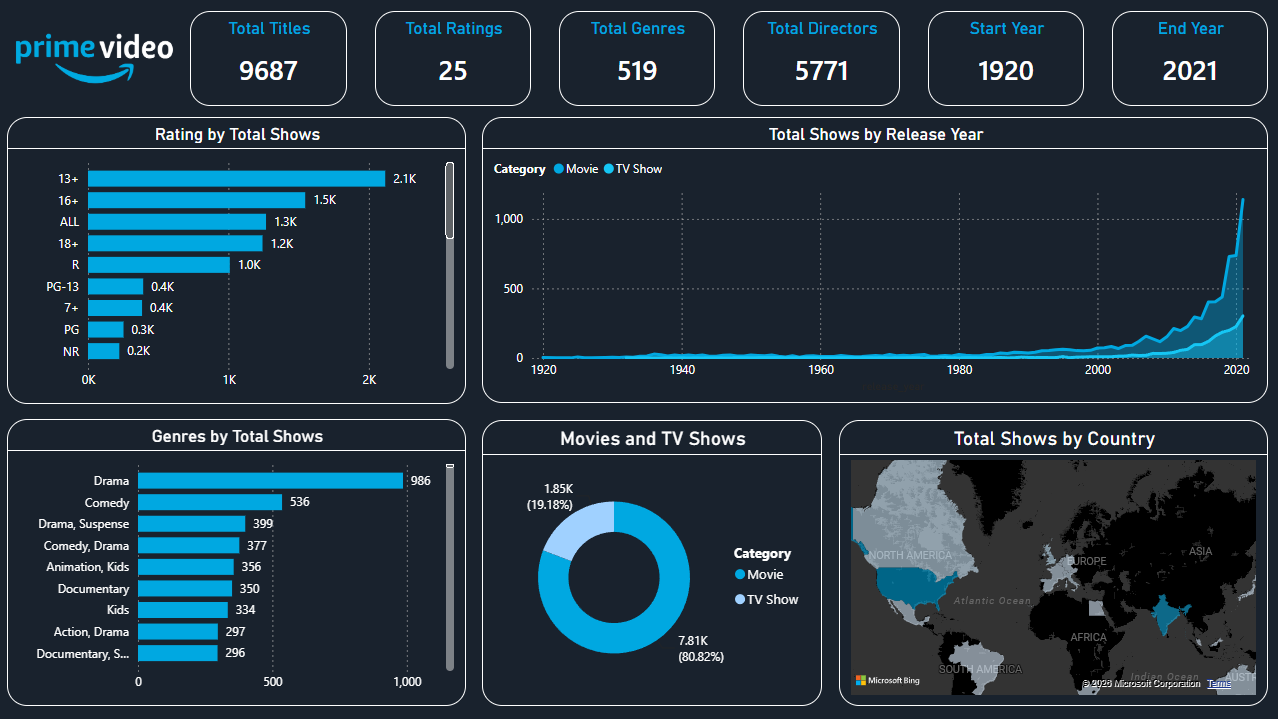

What the dashboard file says about the page in this screenshot:
{"tool":"powerbi","page":{"name":"Page 1","canvas":[1280,720],"ordinal":0},"visuals":[{"type":"filledMap","title":"Total Shows by Country","fields":{"Category":["amazon_prime_titles.country"]},"box":[560.1,117.5,709.3,292.4],"z":0},{"type":"donutChart","title":"Movies and TV Shows","fields":{"Category":["amazon_prime_titles.type"],"Y":["Count(amazon_prime_titles.show_id)"]},"box":[560.1,420.5,299.5,286.2],"z":1},{"type":"areaChart","title":"Total Shows by Release Year","fields":{"Category":["amazon_prime_titles.release_year"],"Y":["Count(amazon_prime_titles.show_id)"],"Series":["amazon_prime_titles.type"]},"box":[882.5,420.5,386.9,286.2],"z":2},{"type":"image","box":[7.1,11.5,156.4,94.5],"z":3},{"type":"clusteredBarChart","title":"Rating by Total Shows","fields":{"Category":["amazon_prime_titles.rating"],"Y":["Count(amazon_prime_titles.show_id)"]},"box":[7.1,117.5,524.7,286.2],"z":4},{"type":"clusteredBarChart","title":"Genres by Total Shows","fields":{"Y":["Count(amazon_prime_titles.show_id)"],"Category":["amazon_prime_titles.listed_in"]},"box":[7.1,420.5,524.7,286.2],"z":5},{"type":"cardVisual","title":"Total Titles","fields":{"Data":["amazon_prime_titles.Total Titles"]},"box":[191.4,11.5,156.4,94.5],"z":6},{"type":"cardVisual","title":"Total Ratings","fields":{"Data":["Count(amazon_prime_titles.rating)"]},"box":[375.7,11.5,156.4,94.5],"z":7},{"type":"cardVisual","title":"Total Genres","fields":{"Data":["Count(amazon_prime_titles.listed_in)"]},"box":[560.1,11.5,156.4,94.5],"z":8},{"type":"cardVisual","title":"Total Directors","fields":{"Data":["Count(amazon_prime_titles.director)"]},"box":[744.4,11.5,156.4,94.5],"z":9},{"type":"cardVisual","title":"Start Year","fields":{"Data":["Min(amazon_prime_titles.release_year)"]},"box":[928.7,11.5,156.4,94.5],"z":10},{"type":"cardVisual","title":"End Year","fields":{"Data":["Max(amazon_prime_titles.release_year)"]},"box":[1113,11.5,156.4,94.5],"z":11}]}

Visuals, with their boxes in screenshot pixels (x1, y1, x2, y2), scaled from the page's 1280x720 canvas onto the 1278x719 screenshot:
"Total Shows by Country" filledMap: 559 117 1267 409
"Movies and TV Shows" donutChart: 559 420 858 706
"Total Shows by Release Year" areaChart: 881 420 1267 706
image: 7 11 163 106
"Rating by Total Shows" clusteredBarChart: 7 117 531 403
"Genres by Total Shows" clusteredBarChart: 7 420 531 706
"Total Titles" cardVisual: 191 11 347 106
"Total Ratings" cardVisual: 375 11 531 106
"Total Genres" cardVisual: 559 11 715 106
"Total Directors" cardVisual: 743 11 899 106
"Start Year" cardVisual: 927 11 1083 106
"End Year" cardVisual: 1111 11 1267 106
